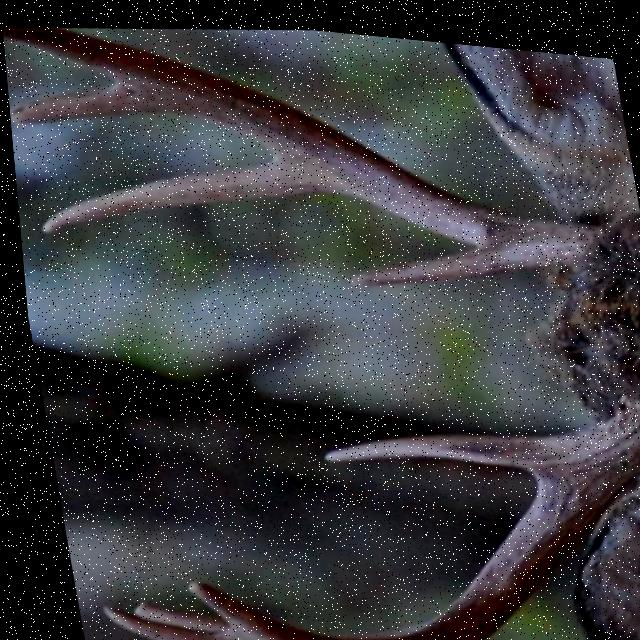E1: (86, 600, 242, 640)
L-F: (175, 384, 640, 640)
L-G1: (312, 423, 551, 465)
R-F: (2, 26, 599, 259)
R-G1: (343, 237, 510, 279)
R-G2: (33, 152, 331, 235)
R-G3: (8, 80, 185, 125)
